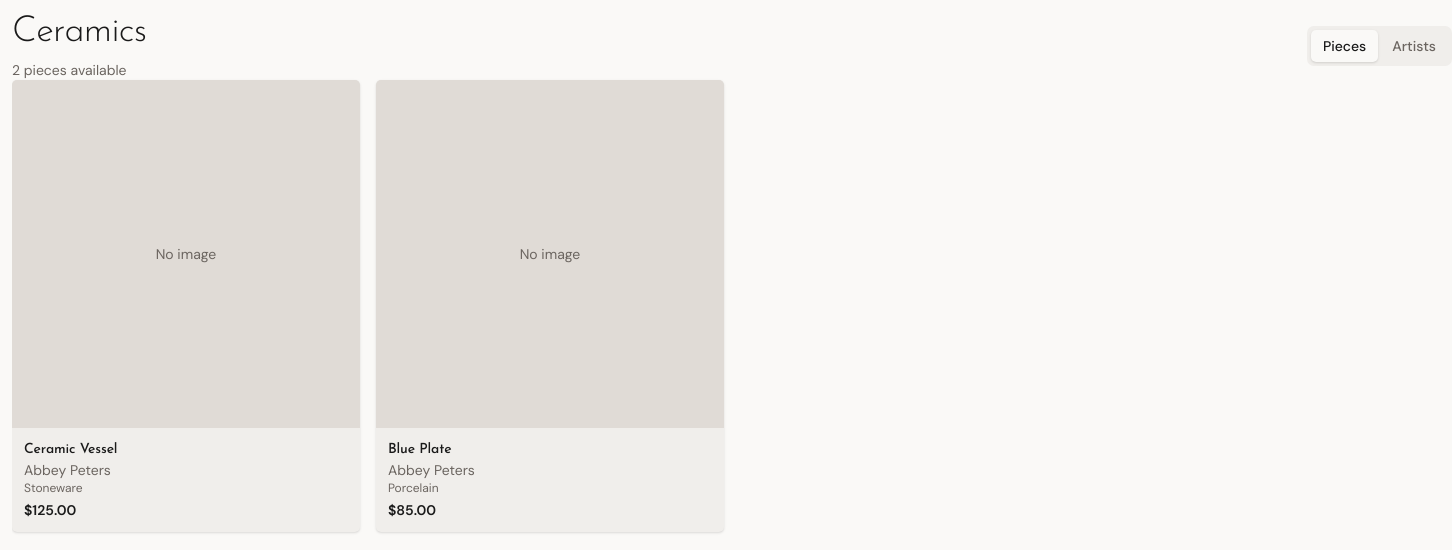
it: CategoryBrowseView › should show empty state when no artists exist
This screenshot has width=1452, height=550.
Click the tab "Artists" at [1414, 46], box [1380, 30, 1448, 62]
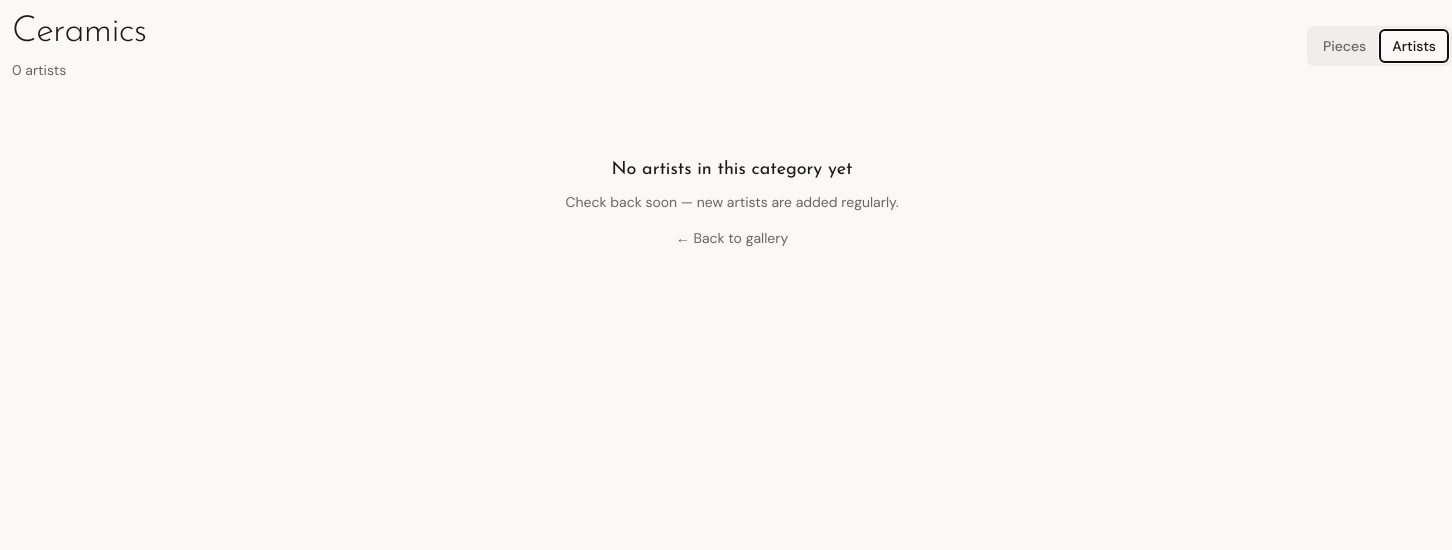
Expected: the text "No artists in this category yet" is shown, [612, 156, 852, 184]
Expected: the link "← Back to gallery" is shown, [676, 228, 788, 248]
